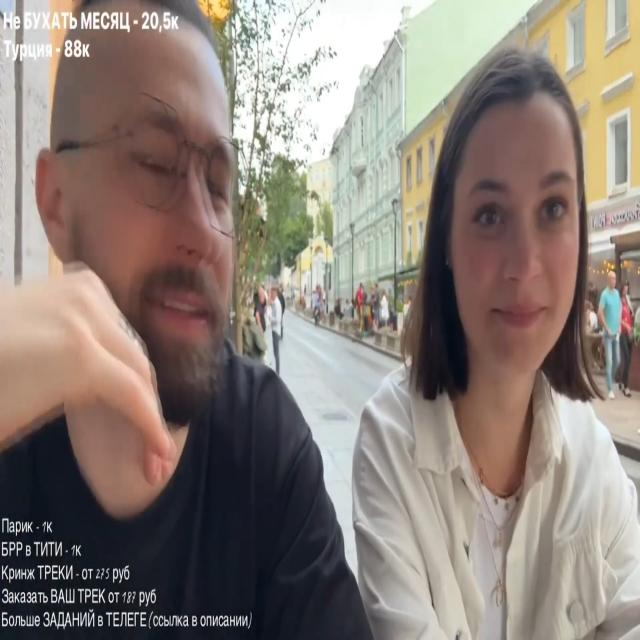Person: (0, 15, 346, 632), (338, 50, 640, 640), (596, 272, 634, 394), (262, 283, 285, 372)
